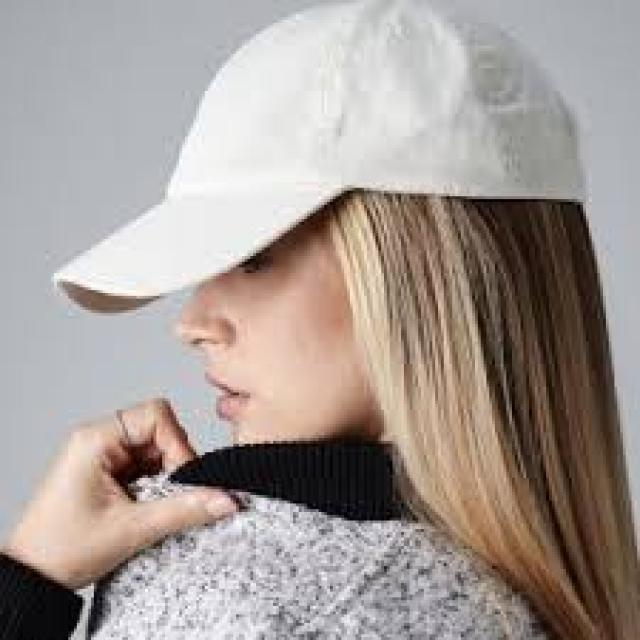cap: (29, 0, 626, 356)
